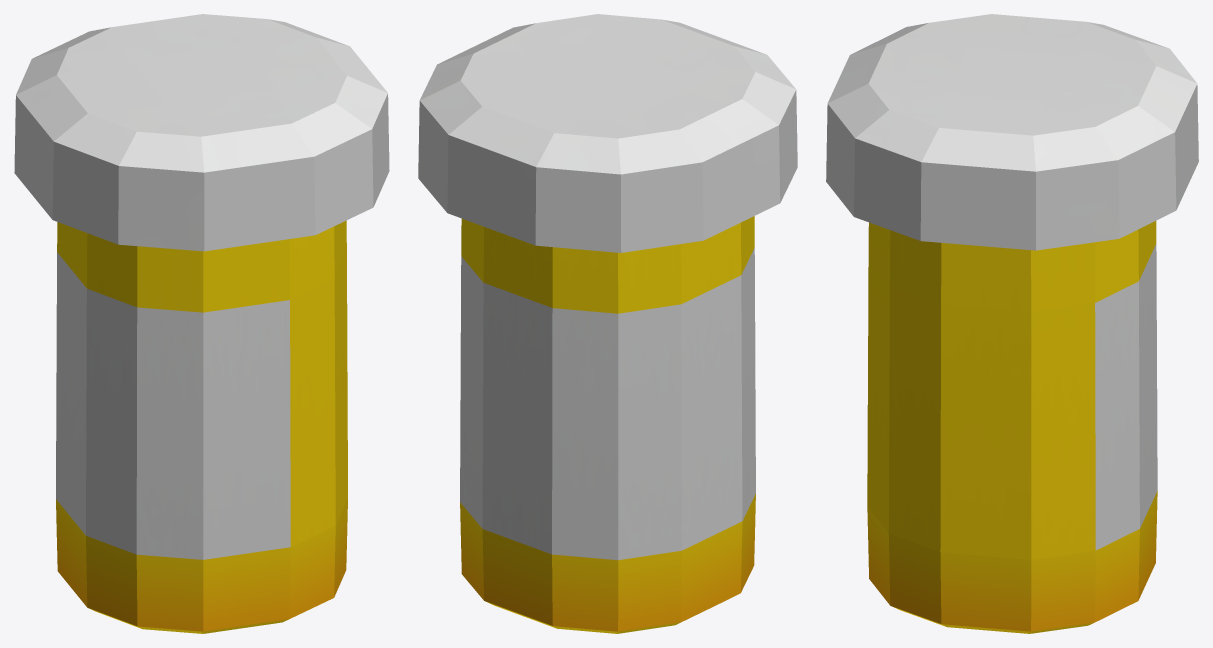
The model's file is medication_bottle.obj.
The picture shows the model from 3 angles, left to right: view 1: azimuth 30°, elevation 25°; view 2: azimuth 150°, elevation 25°; view 3: azimuth 270°, elevation 25°; orthographic projection.
Visible parts, largest first — view 1: medication_bottle_Material; view 2: medication_bottle_Material; view 3: medication_bottle_Material.
Boxes of the visible parts, x1,y1,x2,y2 form: medication_bottle_Material: (14,14,389,633); medication_bottle_Material: (418,14,797,633); medication_bottle_Material: (826,14,1198,633).
Size of the model in its own units: 0.056 by 0.0836 by 0.056.
